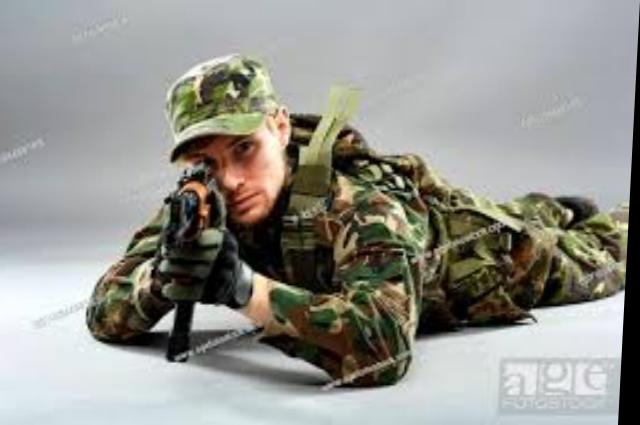other: (85, 43, 445, 400)
